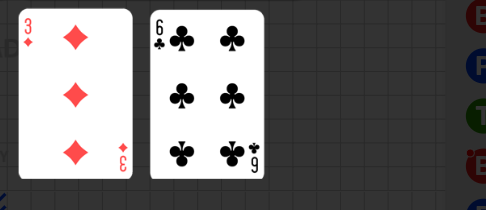6C: (247, 140, 261, 175), (154, 18, 168, 52)
